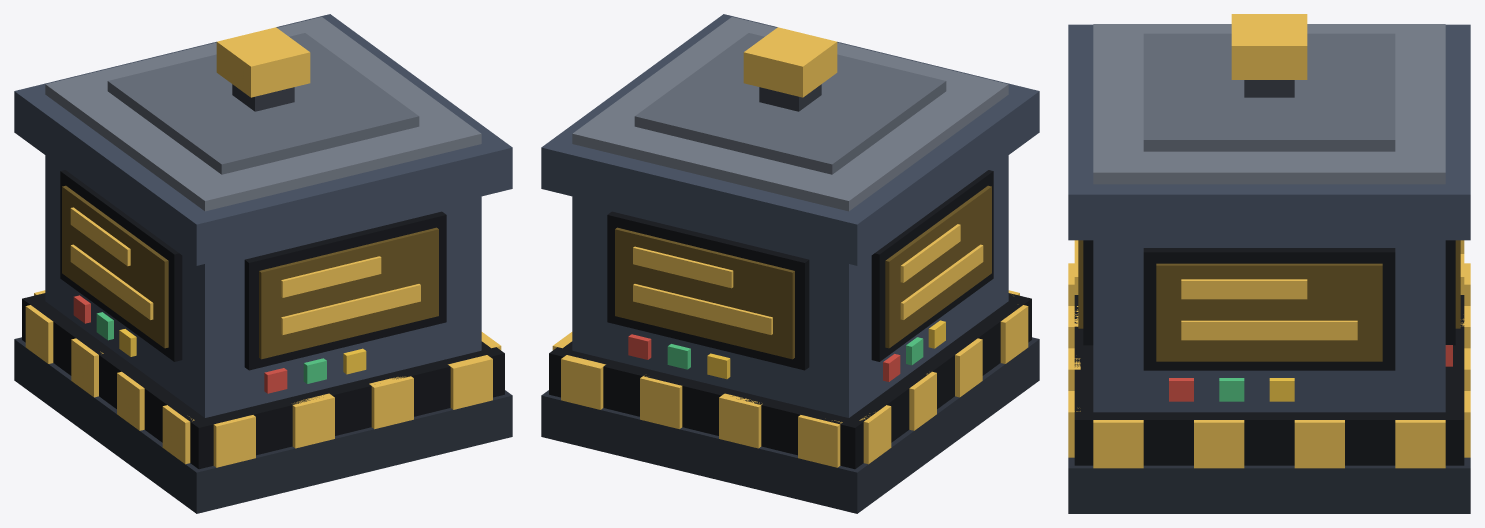
The model's file is station.glb.
The picture shows the model from 3 angles, left to right: view 1: azimuth 30°, elevation 25°; view 2: azimuth 150°, elevation 25°; view 3: azimuth 270°, elevation 25°; orthographic projection. The views are drawn at different scales.
Visible parts, largest first — view 1: body.002; view 2: body.002; view 3: body.002.
Boxes of the visible parts, bbox=[...] form: body.002: bbox=[14, 14, 512, 513]; body.002: bbox=[541, 14, 1039, 513]; body.002: bbox=[1068, 14, 1470, 513].
Bounding box in the file's own units: 1 × 1.09 × 1.
